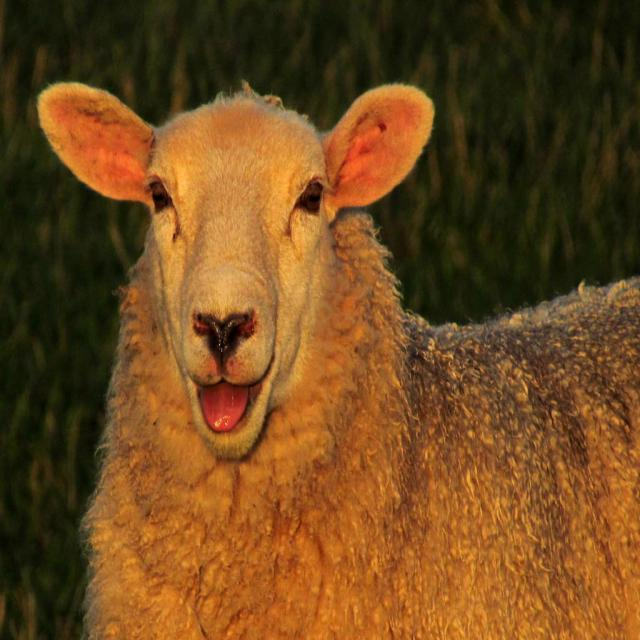Sheep: (31, 73, 640, 638)
